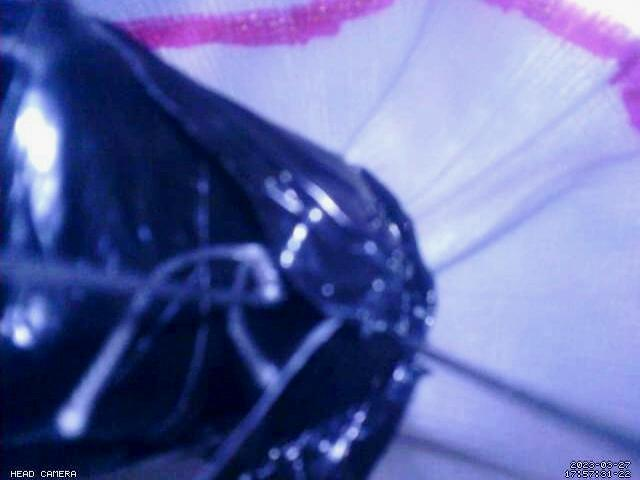red-circle: (112, 0, 640, 133)
